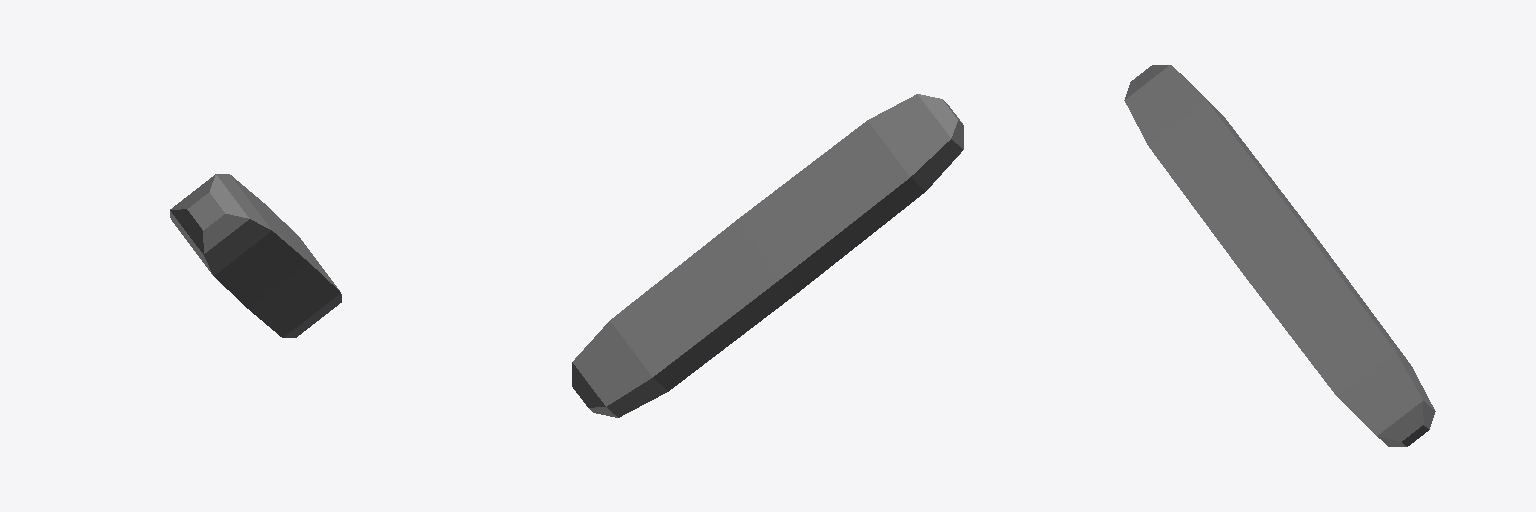
The model's file is right_hand_cp_2endsite.obj.
The picture shows the model from 3 angles: view 1: azimuth 30°, elevation 25°; view 2: azimuth 150°, elevation 25°; view 3: azimuth 270°, elevation 25°; orthographic projection.
Visible parts, largest first — view 1: ../rami/model/right_hand_cp_2endsite; view 2: ../rami/model/right_hand_cp_2endsite; view 3: ../rami/model/right_hand_cp_2endsite.
Part boxes in pixels (x1,y1,x2,y2): ../rami/model/right_hand_cp_2endsite: (170, 174, 341, 337); ../rami/model/right_hand_cp_2endsite: (572, 94, 963, 417); ../rami/model/right_hand_cp_2endsite: (1124, 65, 1435, 446).
Size of the model in its own units: 0.0011 by 0.0012 by 0.0011.